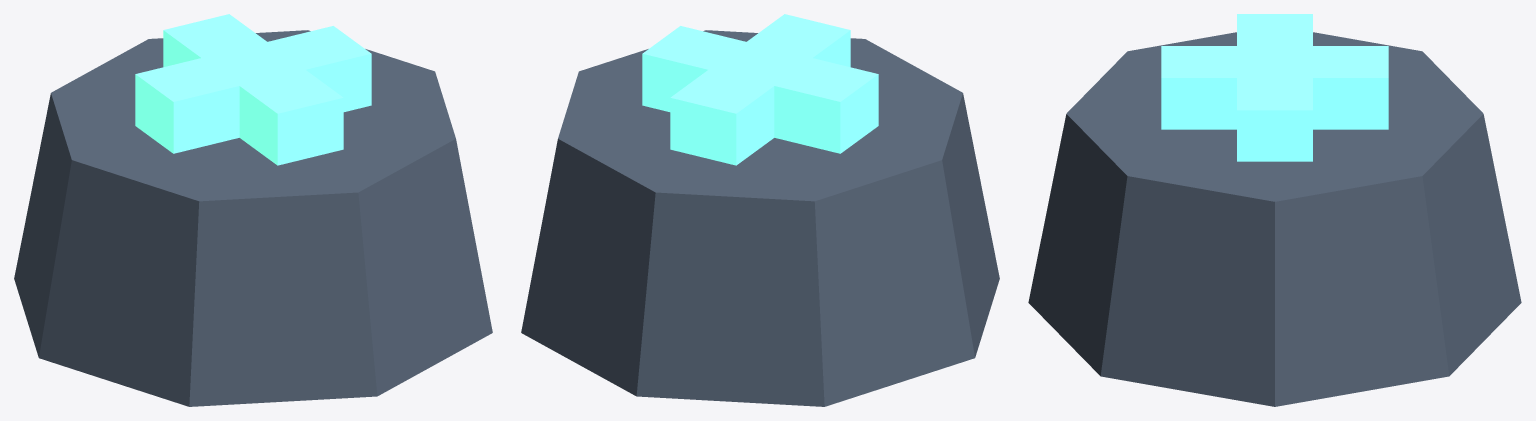
Rendered from medic.glb.
The picture shows the model from 3 angles, left to right: view 1: azimuth 30°, elevation 25°; view 2: azimuth 150°, elevation 25°; view 3: azimuth 270°, elevation 25°; orthographic projection.
Bounding box in the file's own units: 0.52 × 0.28 × 0.52.
